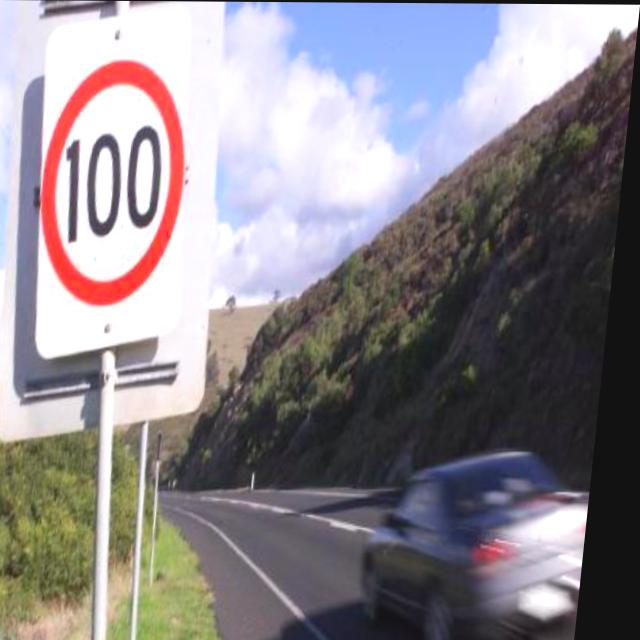limit100: (30, 51, 199, 310)
